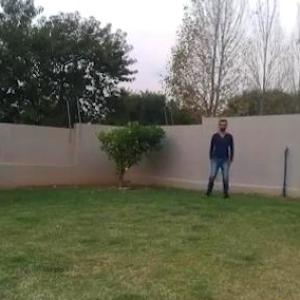follow: (212, 122, 230, 191)
